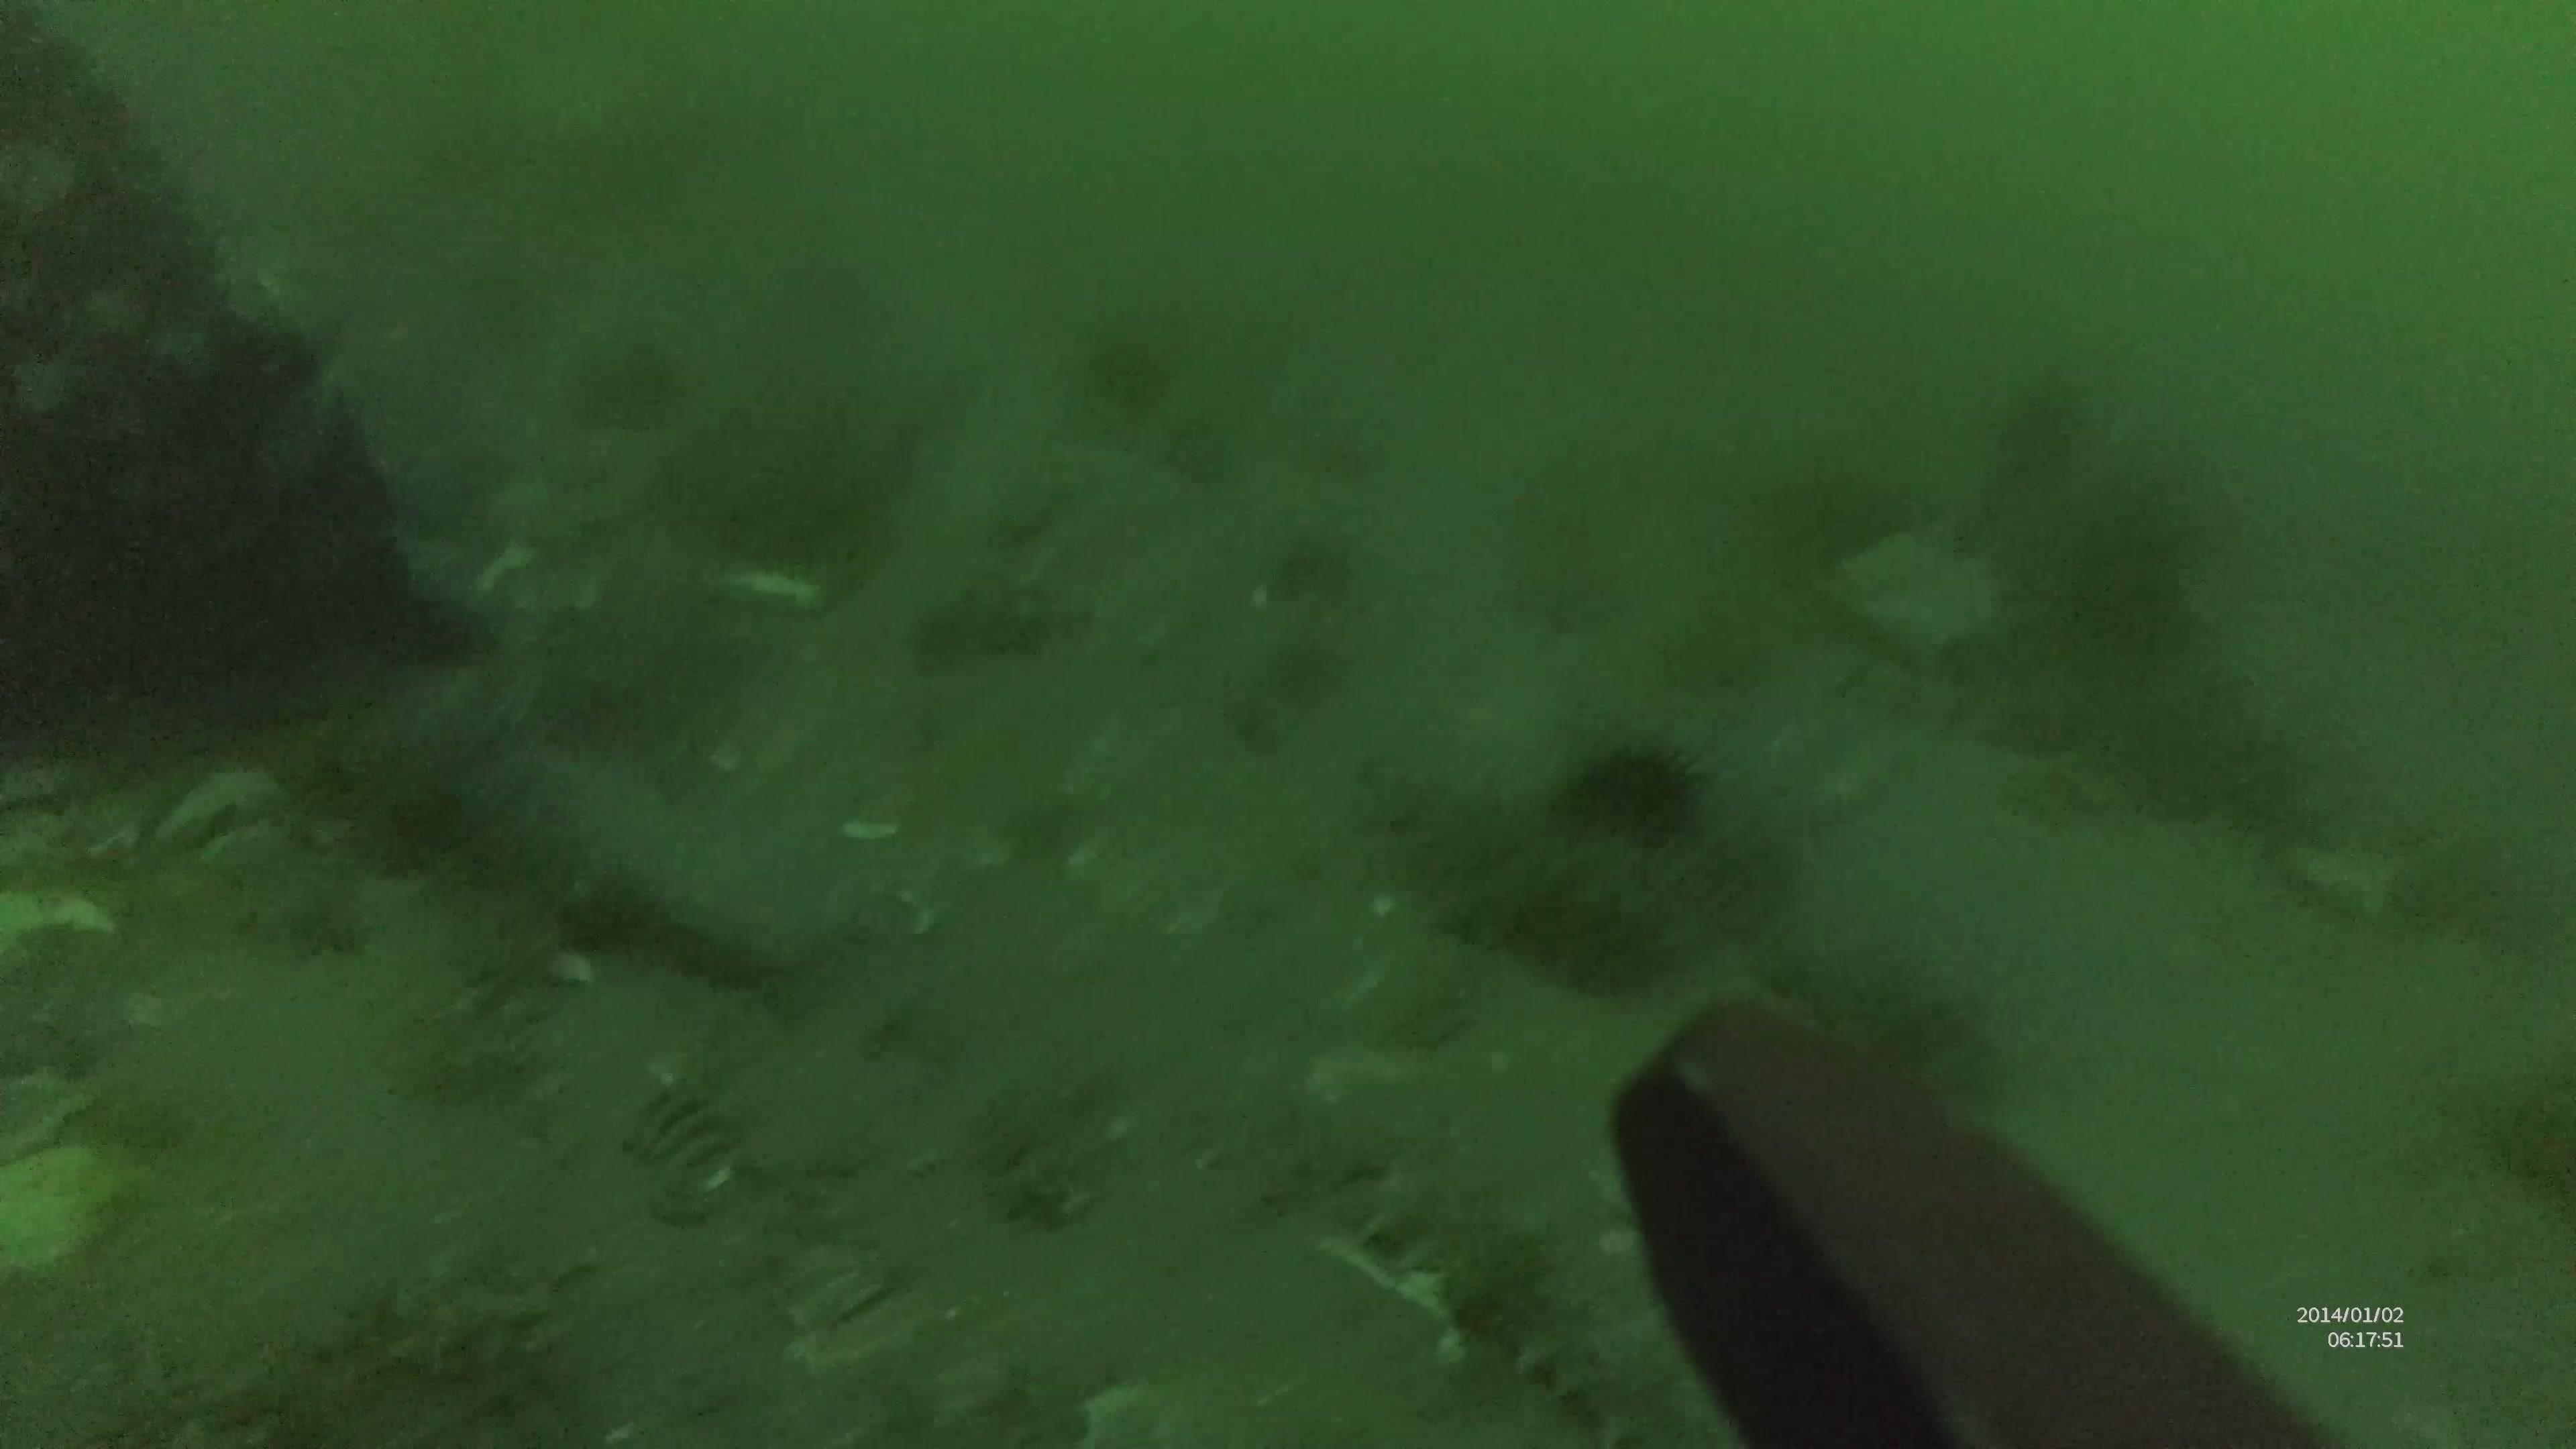echinus: (1550, 738, 1716, 849)
